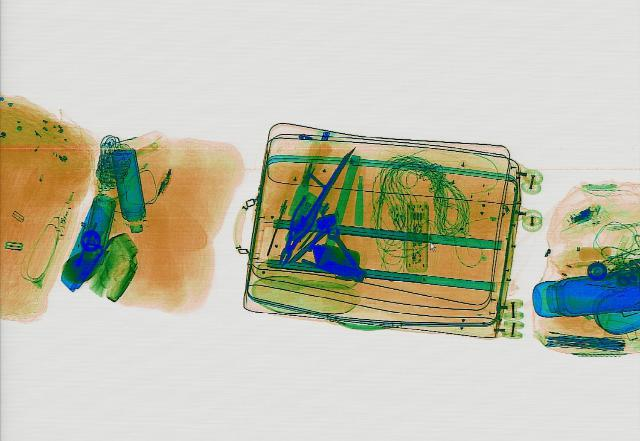Pliers: (269, 194, 327, 265)
Wrench: (322, 226, 370, 283)
